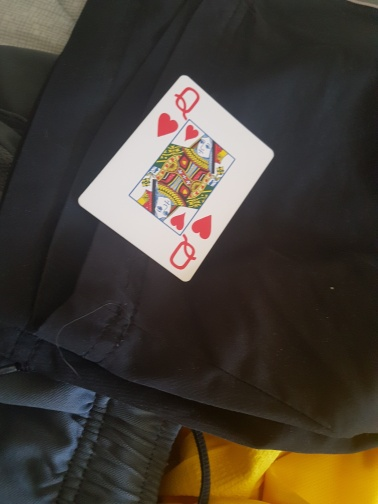queen: (77, 74, 276, 281)
